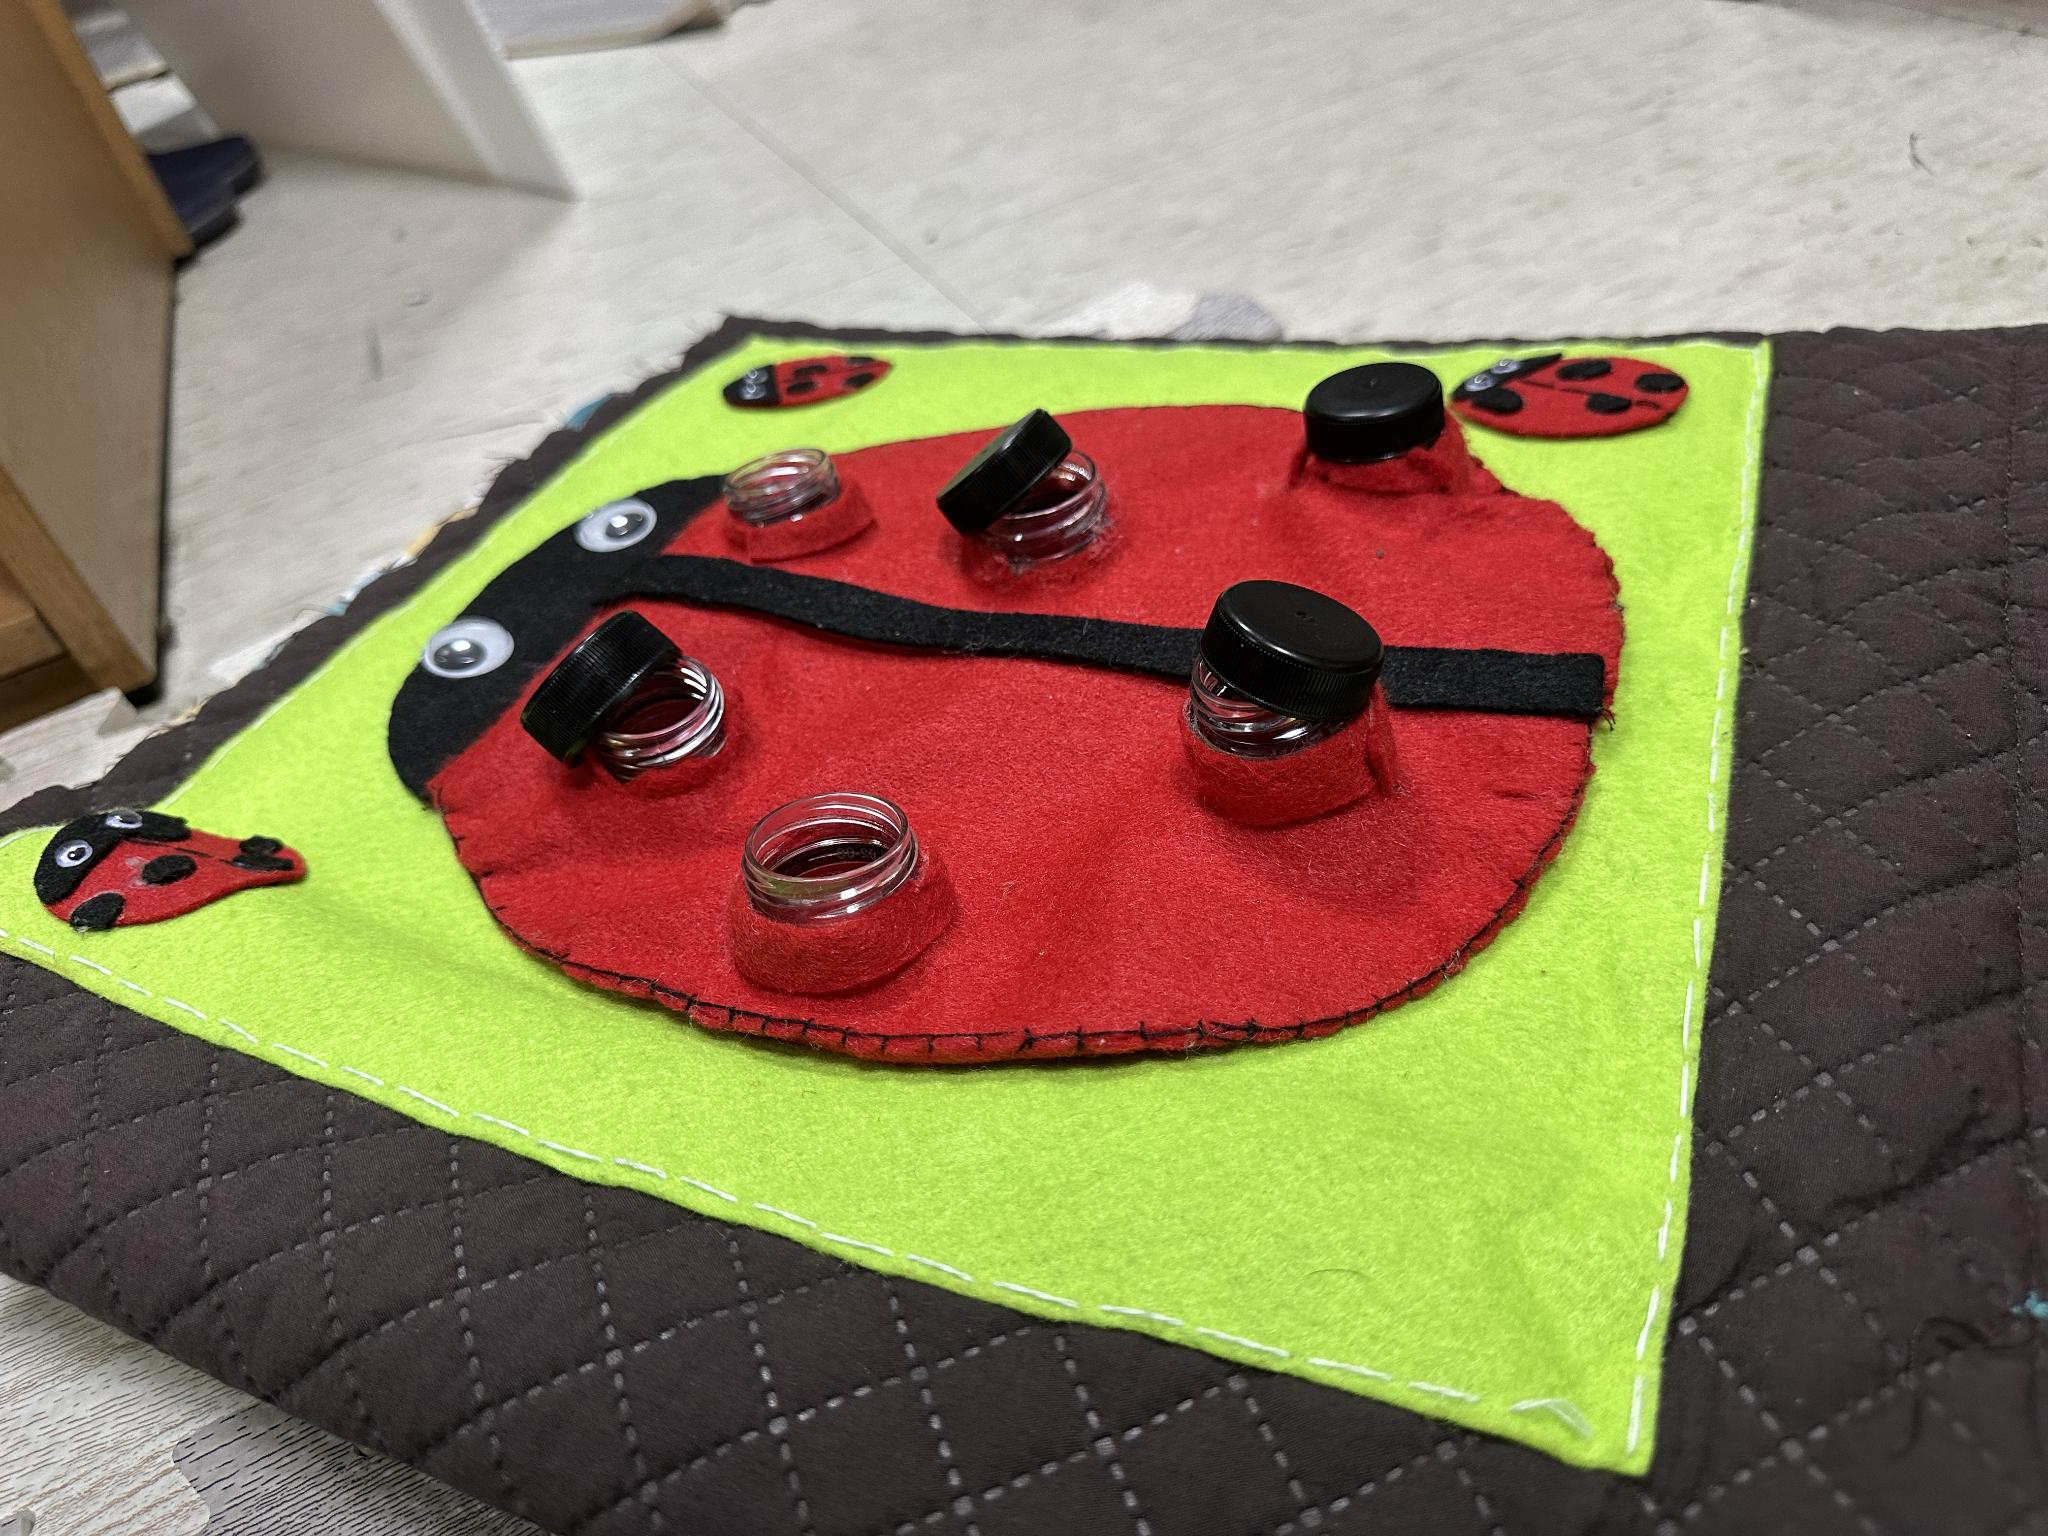cap_ng: (1171, 574, 1408, 834), (511, 608, 742, 807), (922, 405, 1143, 594)
